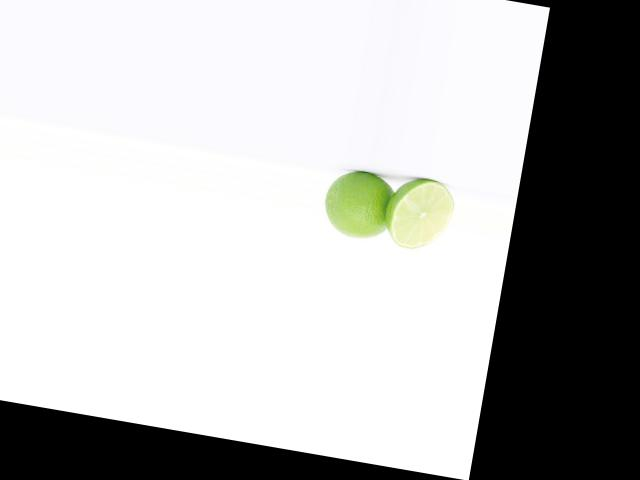lemon: (316, 160, 399, 244)
